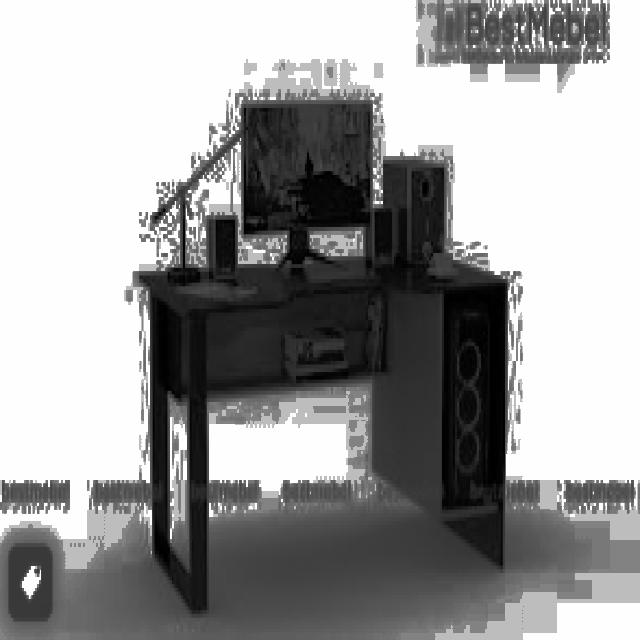table: (137, 253, 507, 614)
